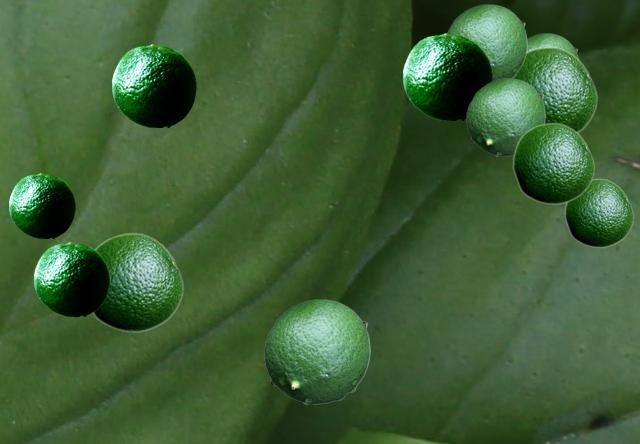calamansi: (264, 299, 369, 403), (92, 232, 183, 332), (403, 33, 491, 119), (516, 46, 597, 132), (112, 44, 195, 126), (512, 122, 594, 204), (446, 4, 526, 80), (466, 78, 544, 155), (34, 242, 108, 315), (564, 178, 633, 247), (9, 173, 74, 237), (527, 33, 578, 56)
